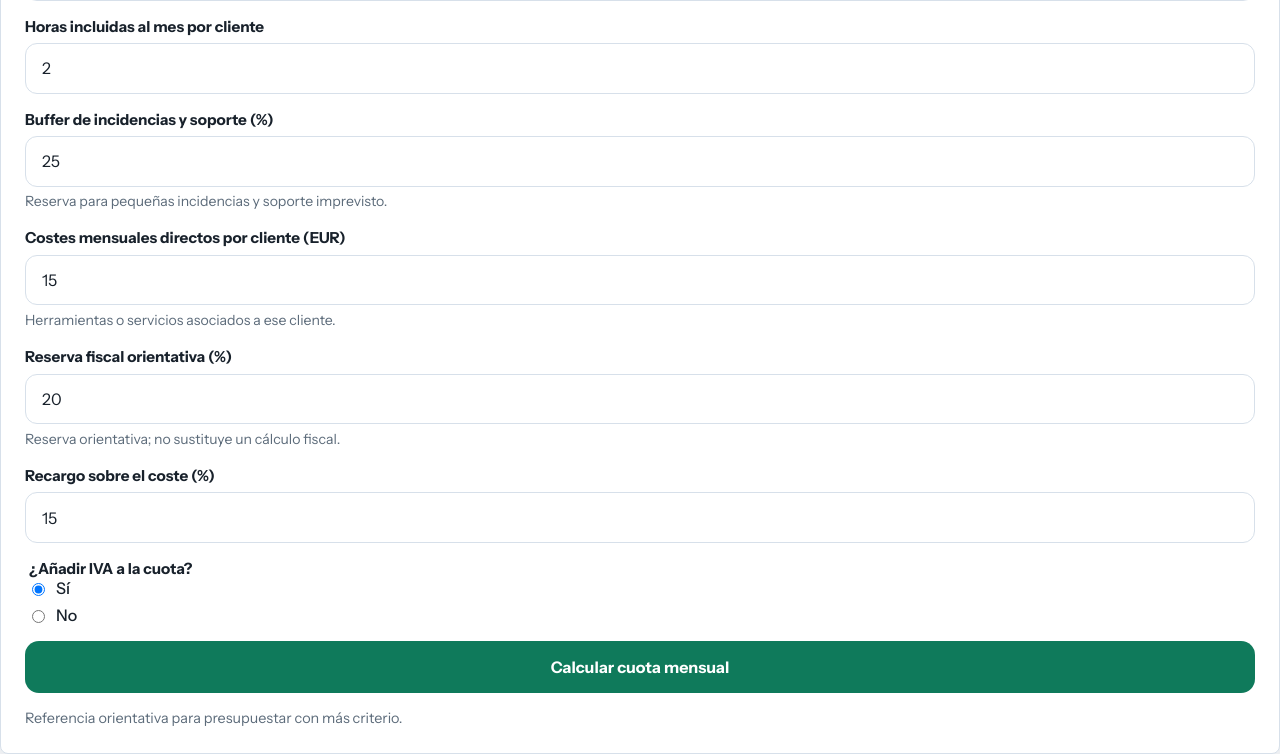
Test case: CalculatorForm › rejects a tax reserve above the supported limit
(page scrolled)
Replace the text in the number field labelled "Reserva fiscal orientativa" with "100" at point(640, 399), box [25,374,1255,424]
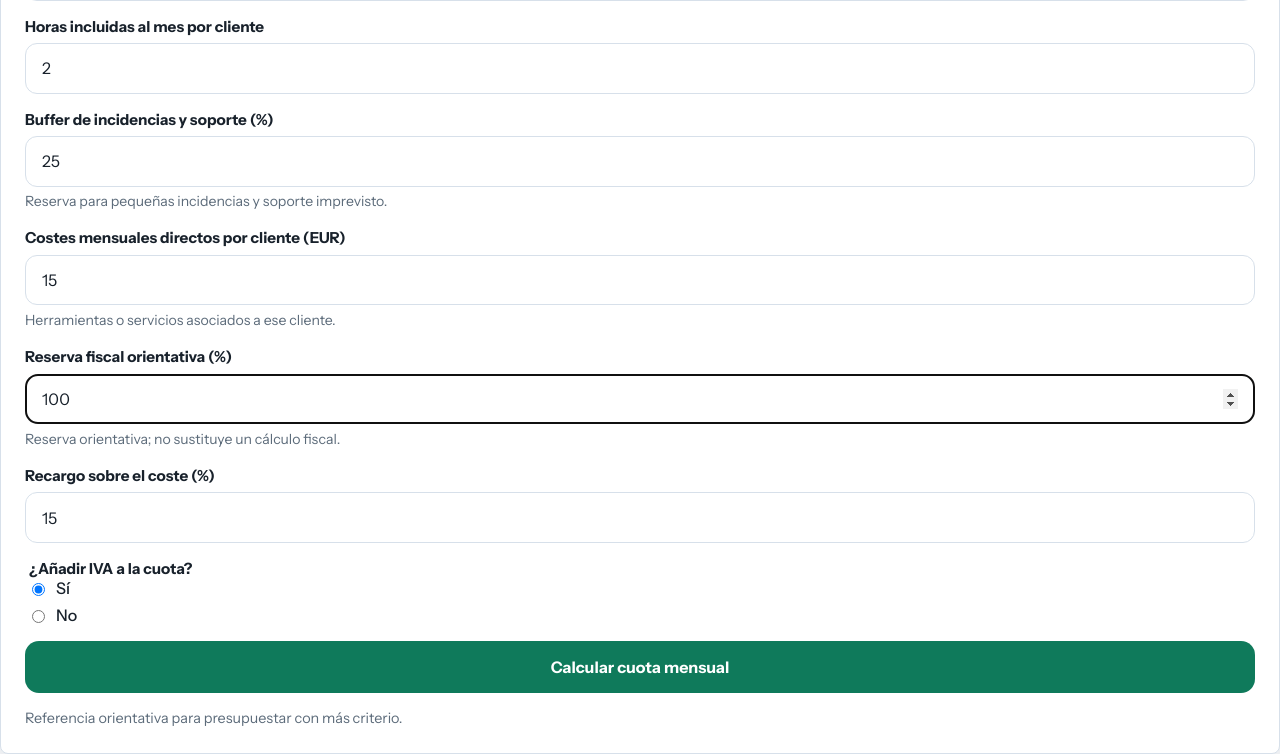
Click the button "Calcular cuota mensual".
click(640, 667)  # box [25,641,1255,693]
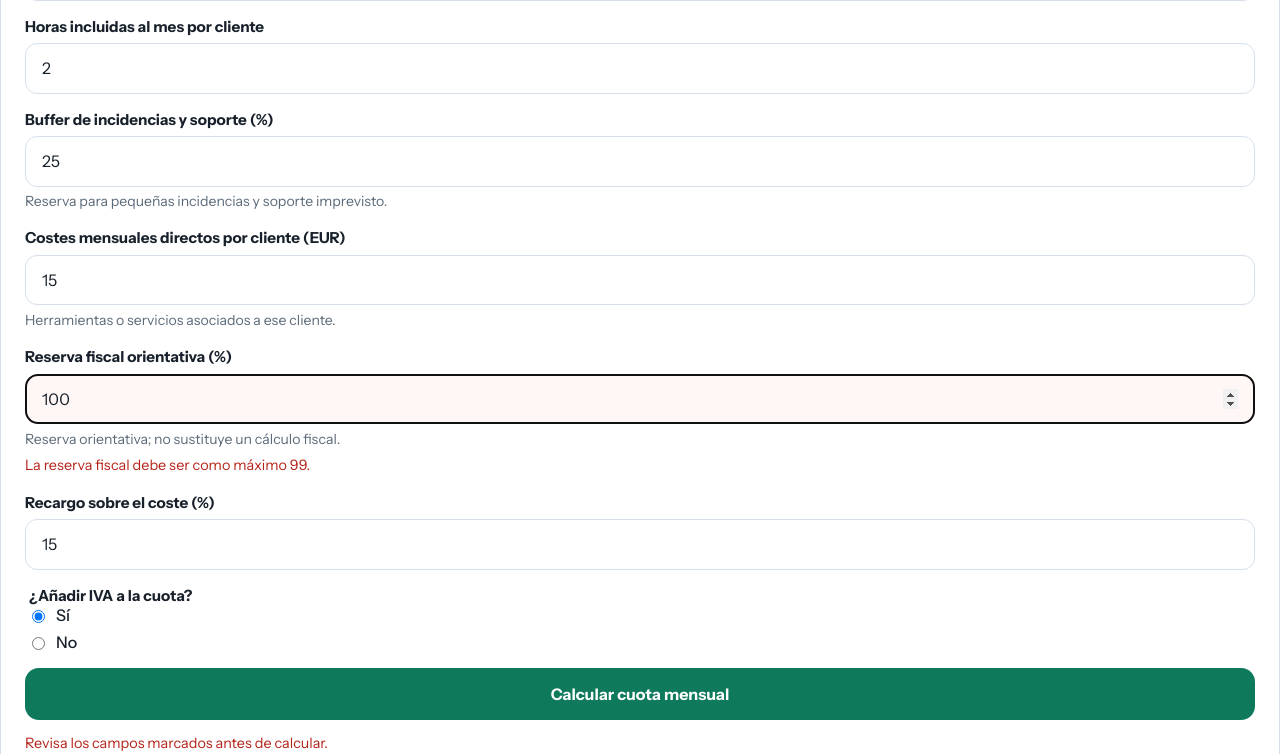
Expected: the text "La reserva fiscal debe ser como máximo 99." is shown, [25,456,310,474]
